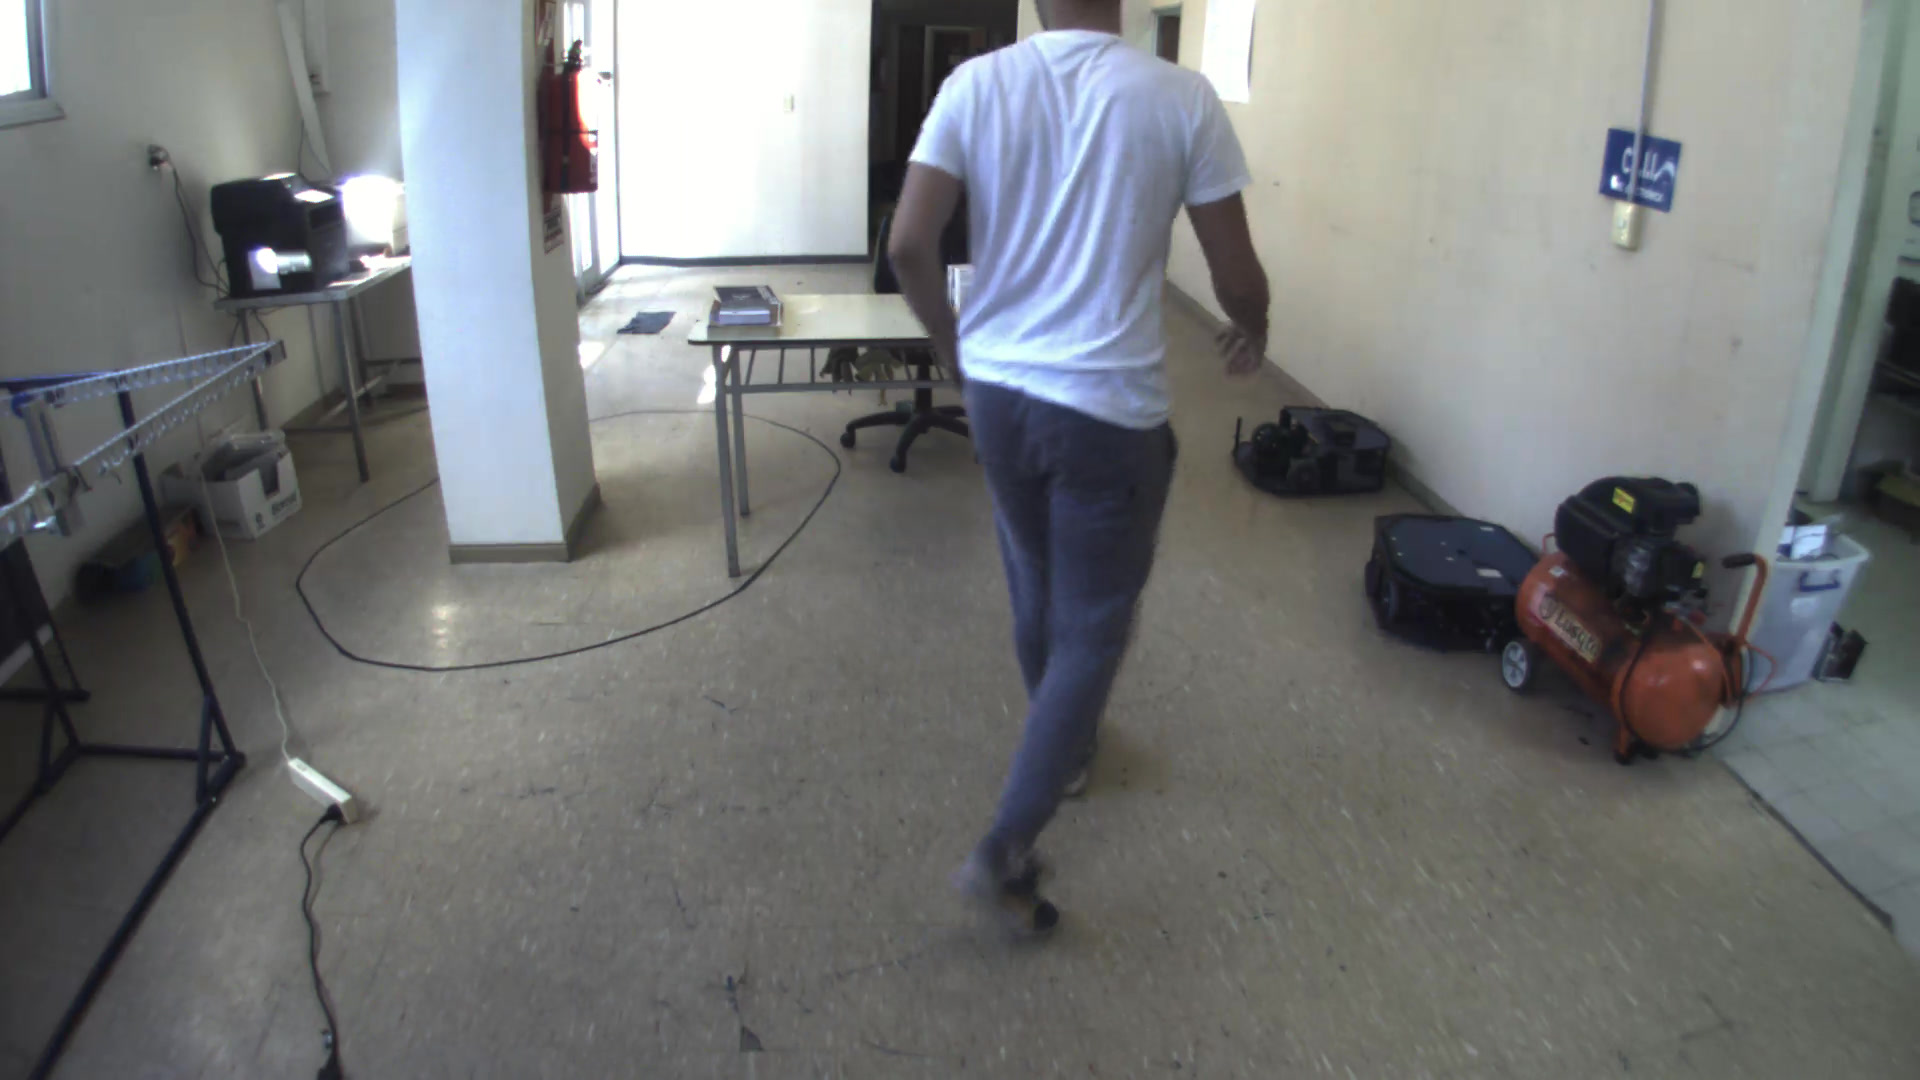hand: (1208, 284, 1282, 382)
